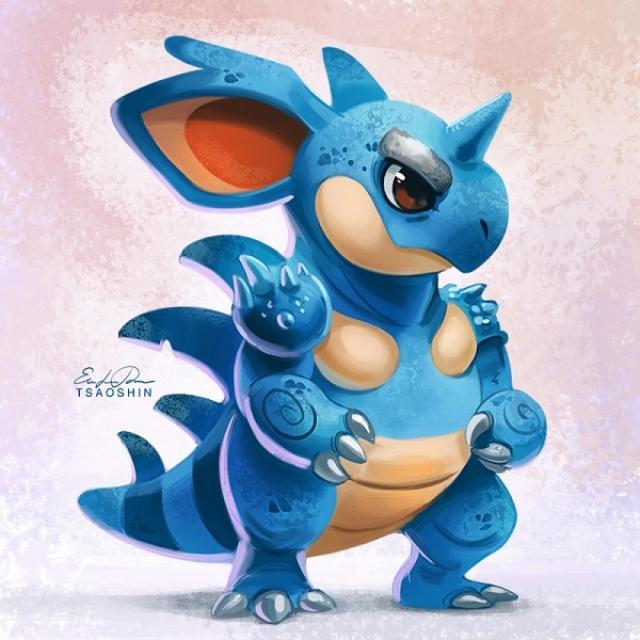Nidoqueen: (104, 36, 548, 619)
